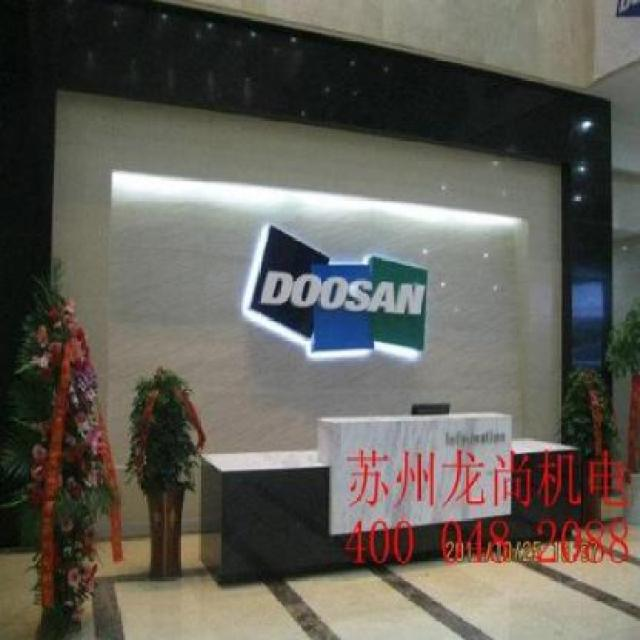frontdesk: (194, 420, 611, 592)
